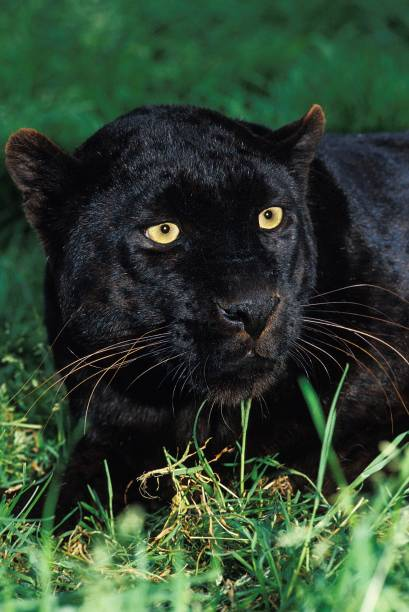panther: (6, 102, 360, 444)
